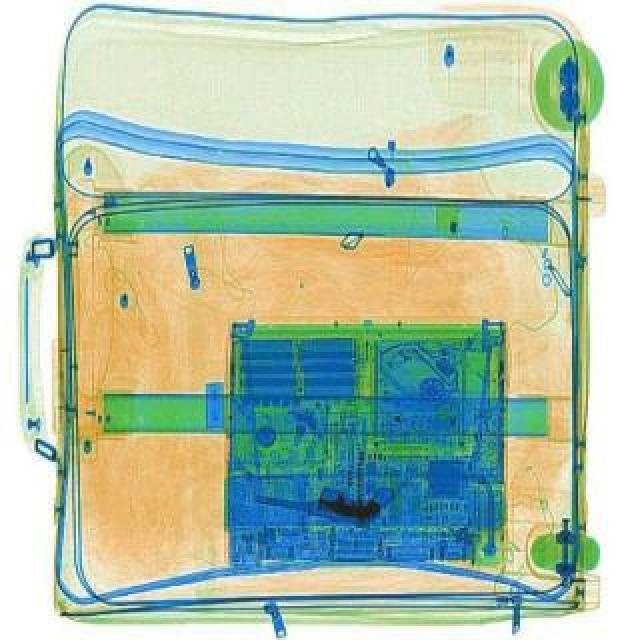gun: (250, 458, 398, 534)
